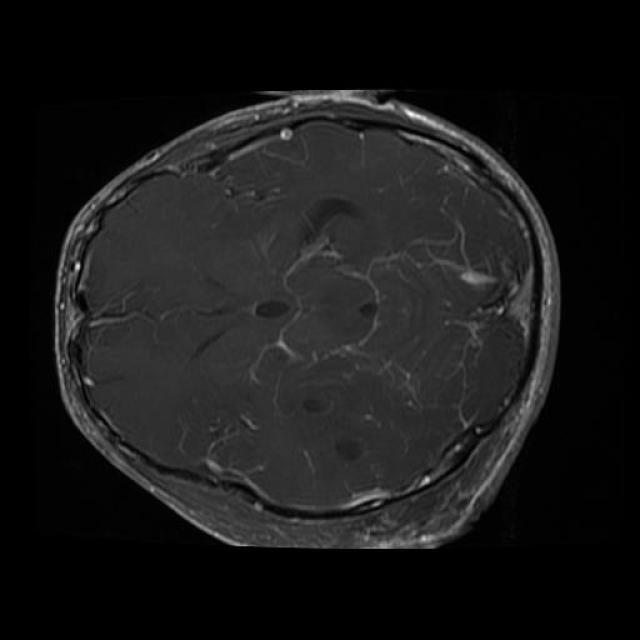Glioma: (205, 416, 256, 473)
